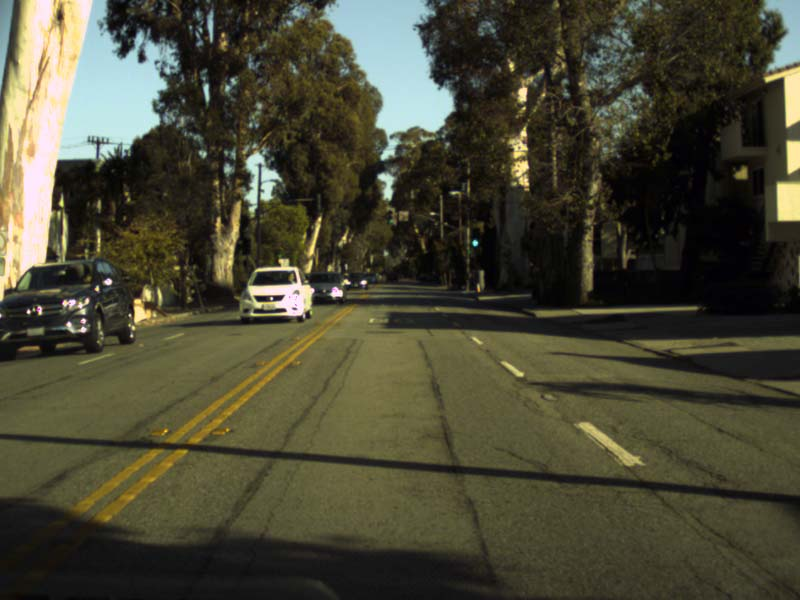Green: (471, 228, 480, 247), (386, 208, 394, 226)
